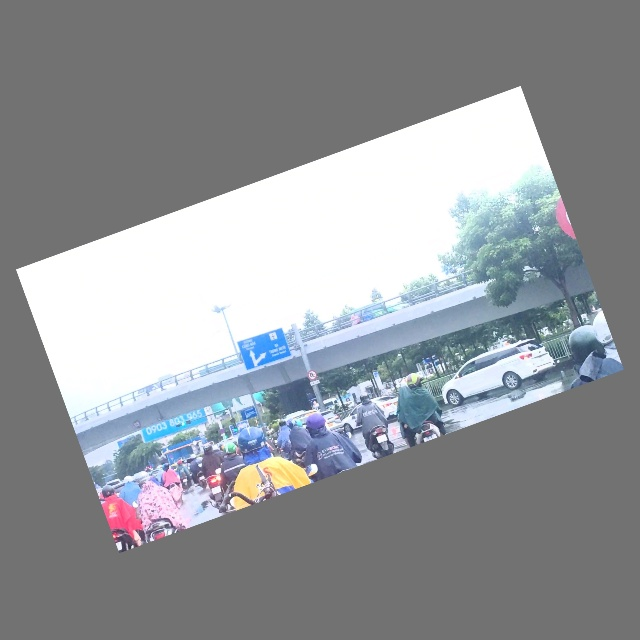P.124b1: (306, 369, 319, 383)
